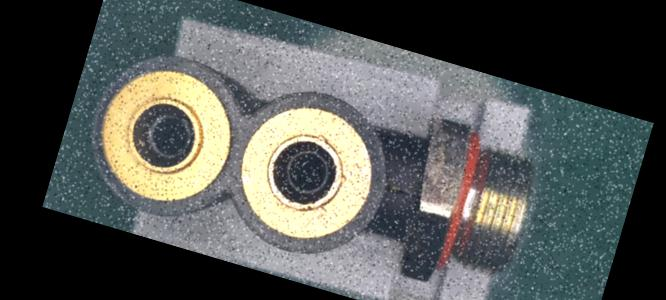craze: (381, 181, 422, 203)
